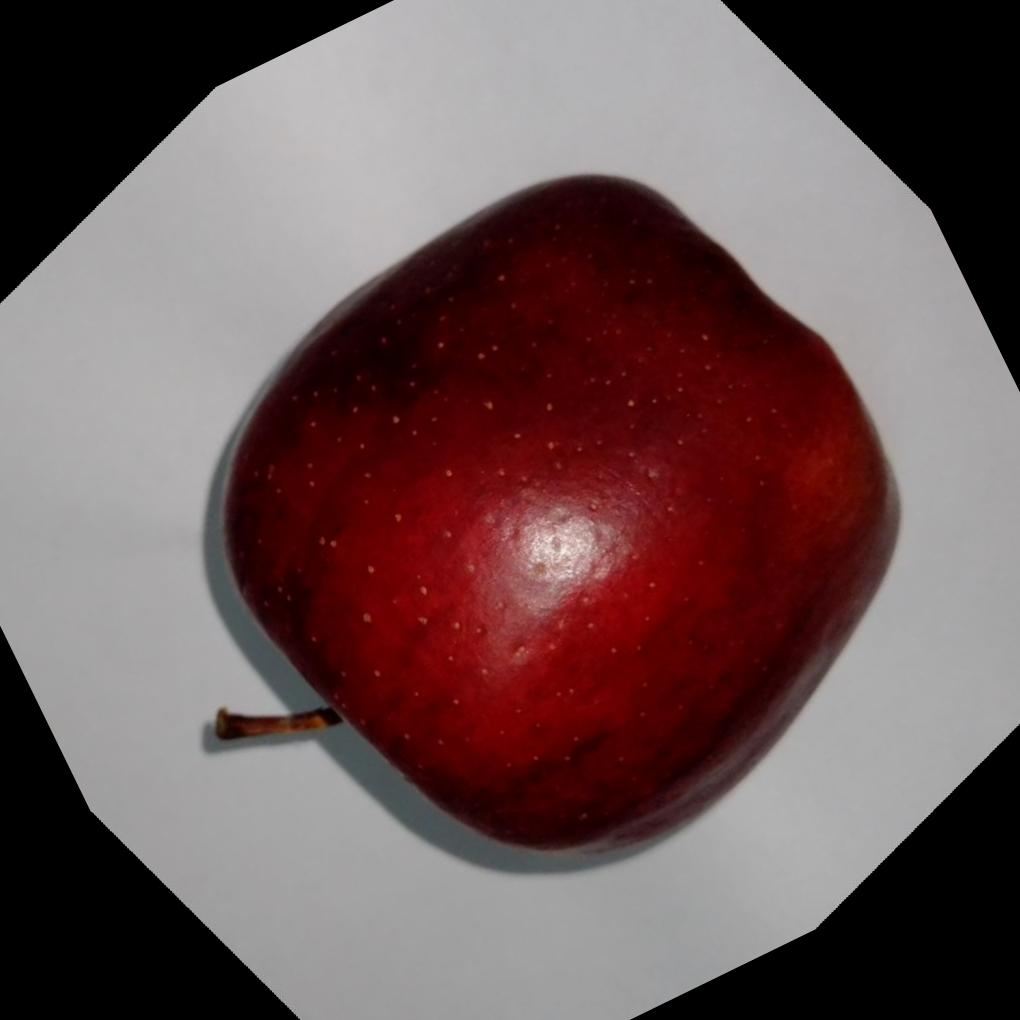FreshOrange: (201, 171, 899, 859)
